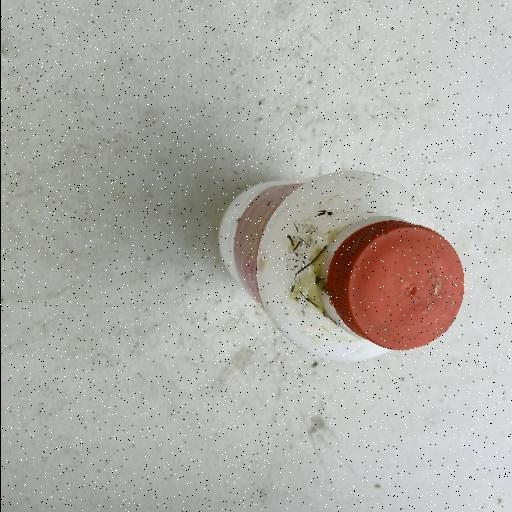Plastic: (215, 167, 467, 365)
